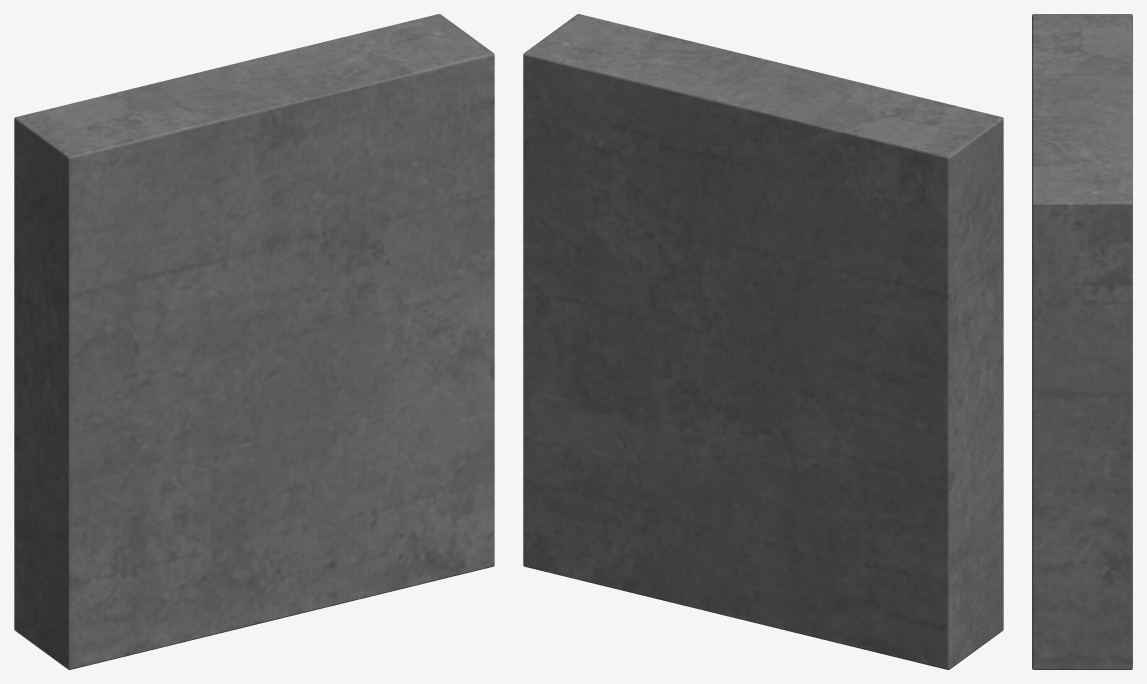
File: SM_GarageConcrete_TemporaryWallLeft.fbx
3 renders of one model, left to right at view 1: azimuth 30°, elevation 25°; view 2: azimuth 150°, elevation 25°; view 3: azimuth 270°, elevation 25°, orthographic. The views are drawn at different scales.
Parts seen in each view (by area): view 1: SM_GarageConcrete_TemporaryWallLeft; view 2: SM_GarageConcrete_TemporaryWallLeft; view 3: SM_GarageConcrete_TemporaryWallLeft.
Part boxes in pixels (x1=…): SM_GarageConcrete_TemporaryWallLeft: x1=14, y1=14, x2=494, y2=669; SM_GarageConcrete_TemporaryWallLeft: x1=523, y1=14, x2=1003, y2=669; SM_GarageConcrete_TemporaryWallLeft: x1=1032, y1=14, x2=1132, y2=669.
Size of the model in its own units: 200 by 45 by 230.
